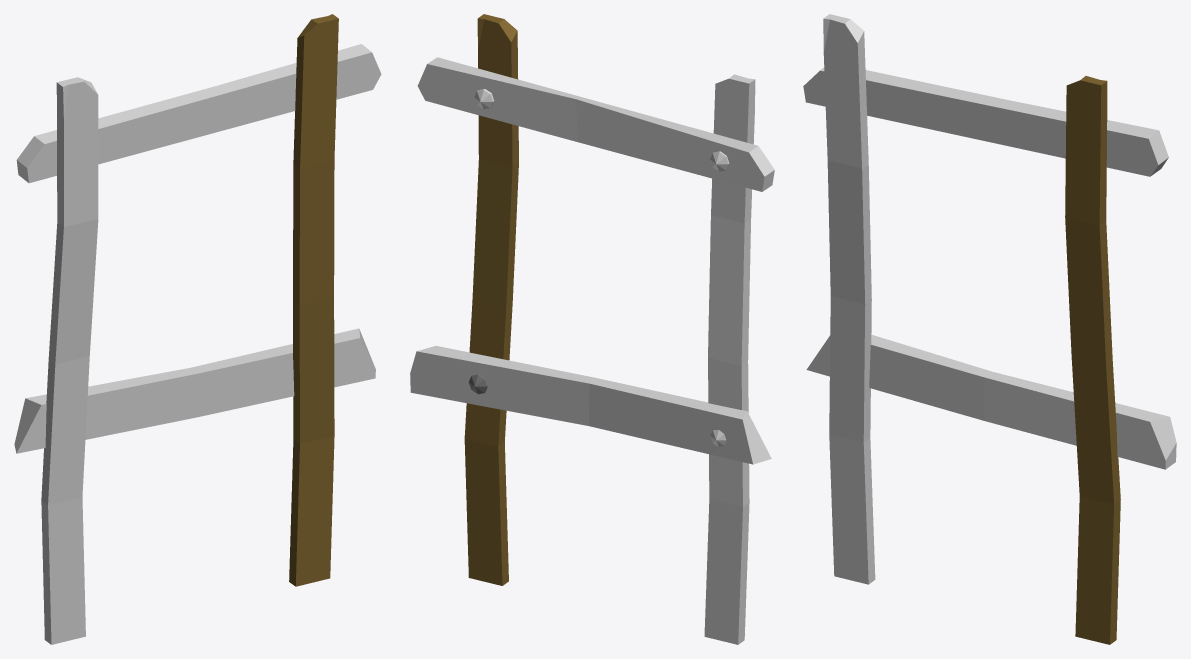
Rendered from Rack.fbx.
The picture shows the model from 3 angles, left to right: view 1: azimuth 30°, elevation 25°; view 2: azimuth 150°, elevation 25°; view 3: azimuth 330°, elevation 25°; orthographic projection. The views are drawn at different scales.
Visible parts, largest first — view 1: Rack, Rack_1, Rack_2, Rack_3; view 2: Rack_1, Rack, Rack_2, Rack_3; view 3: Rack, Rack_1, Rack_2, Rack_3.
Part boxes in pixels (x1,y1,x2,y2): Rack: (289, 14, 338, 586); Rack_1: (41, 77, 98, 644); Rack_2: (14, 328, 375, 453); Rack_3: (16, 44, 381, 183); Rack_1: (704, 74, 755, 644); Rack: (464, 14, 518, 585); Rack_2: (410, 346, 771, 464); Rack_3: (417, 57, 774, 191); Rack: (1065, 76, 1120, 644); Rack_1: (823, 14, 875, 584); Rack_2: (806, 334, 1176, 469); Rack_3: (803, 67, 1168, 176).
Size of the model in its own units: 1.17 by 0.156 by 1.75.
